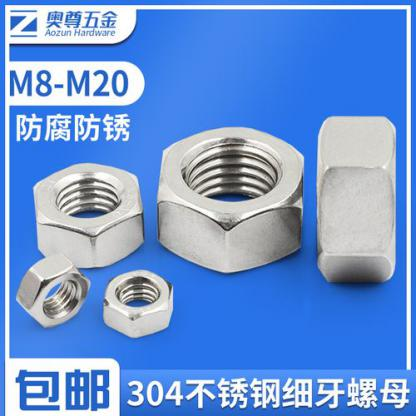FOD: (154, 124, 305, 273), (314, 112, 399, 288), (30, 159, 145, 269), (13, 253, 91, 330), (100, 266, 174, 341)
